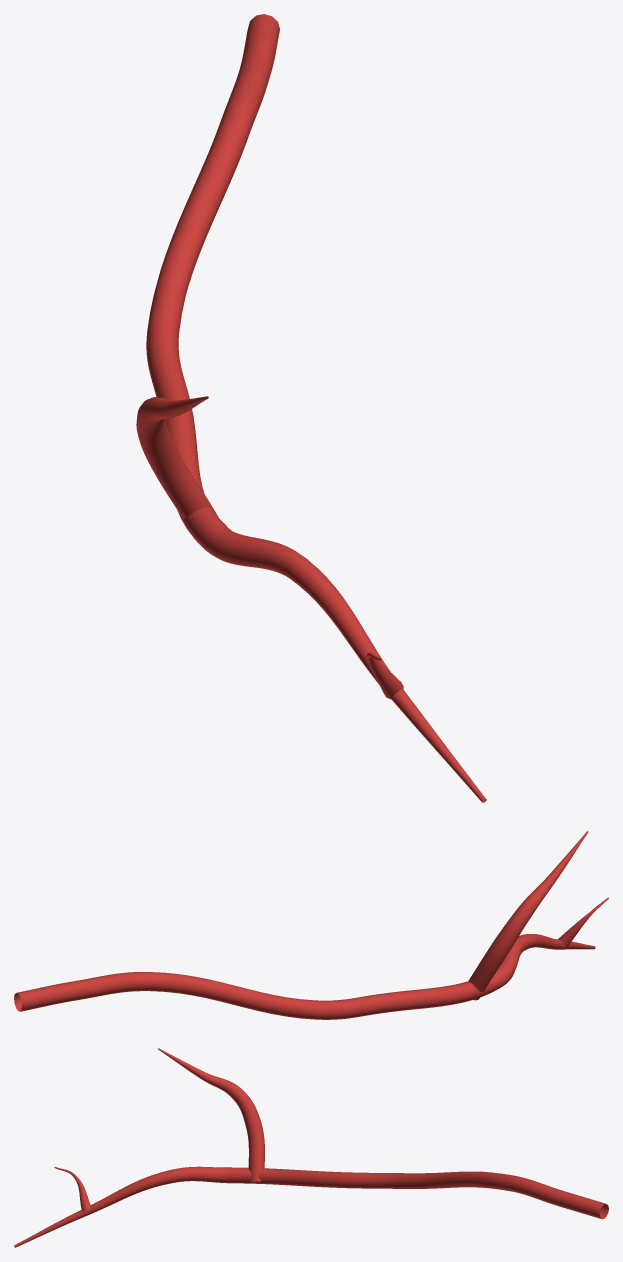
The picture shows the model from 3 angles, top to bottom: view 1: azimuth 30°, elevation 25°; view 2: azimuth 150°, elevation 25°; view 3: azimuth 270°, elevation 25°; orthographic projection. The views are drawn at different scales.
Parts seen in each view (by area): view 1: 右侧颞深前动脉; view 2: 右侧颞深前动脉; view 3: 右侧颞深前动脉.
Boxes of the visible parts, x1,y1,x2,y2 form: 右侧颞深前动脉: [136, 14, 486, 802]; 右侧颞深前动脉: [14, 831, 608, 1019]; 右侧颞深前动脉: [14, 1048, 608, 1247].
Size of the model in its own units: 0.0326 by 0.0202 by 0.0653.
